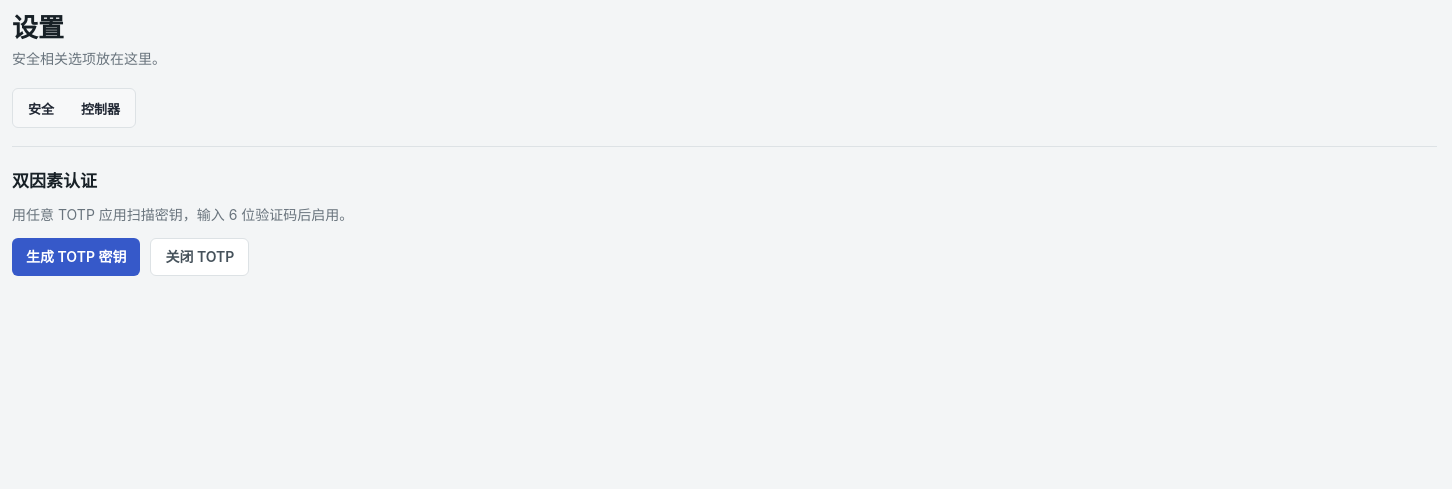
Scenario: auth and security flows › generates and enables TOTP from settings
Click the button "生成 TOTP 密钥".
click(76, 257)  # box [12,238,140,276]
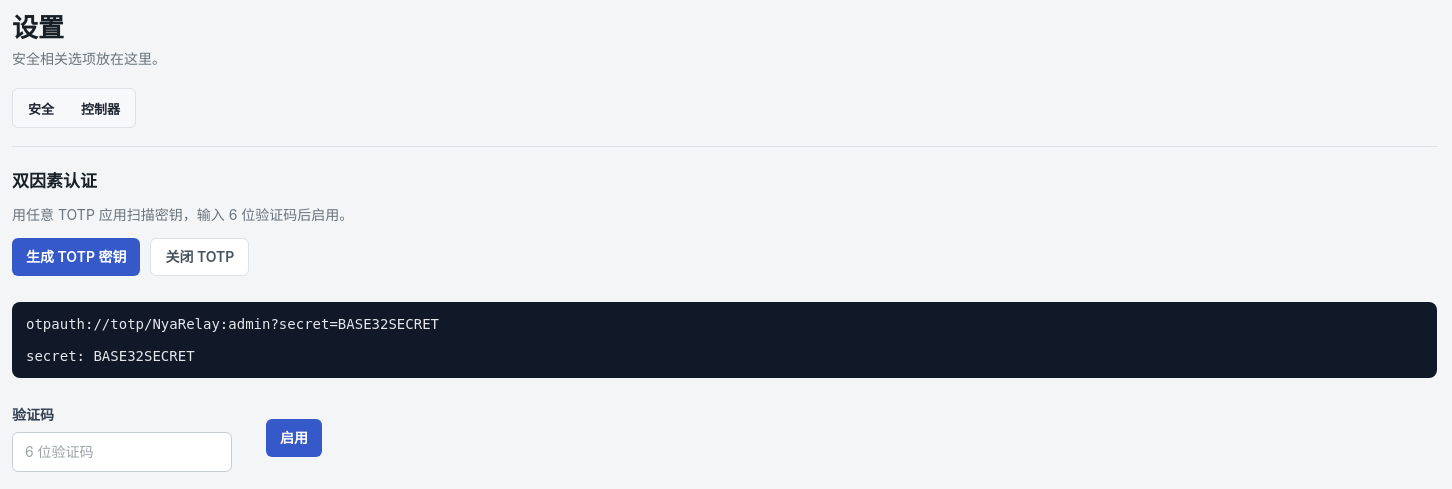
expect the text "secret: BASE32SECRET" is shown: met, box [26,316,439,364]
Type "654321" into the field labelled "验证码".
click(122, 452); type("654321")  # box [12,432,232,472]
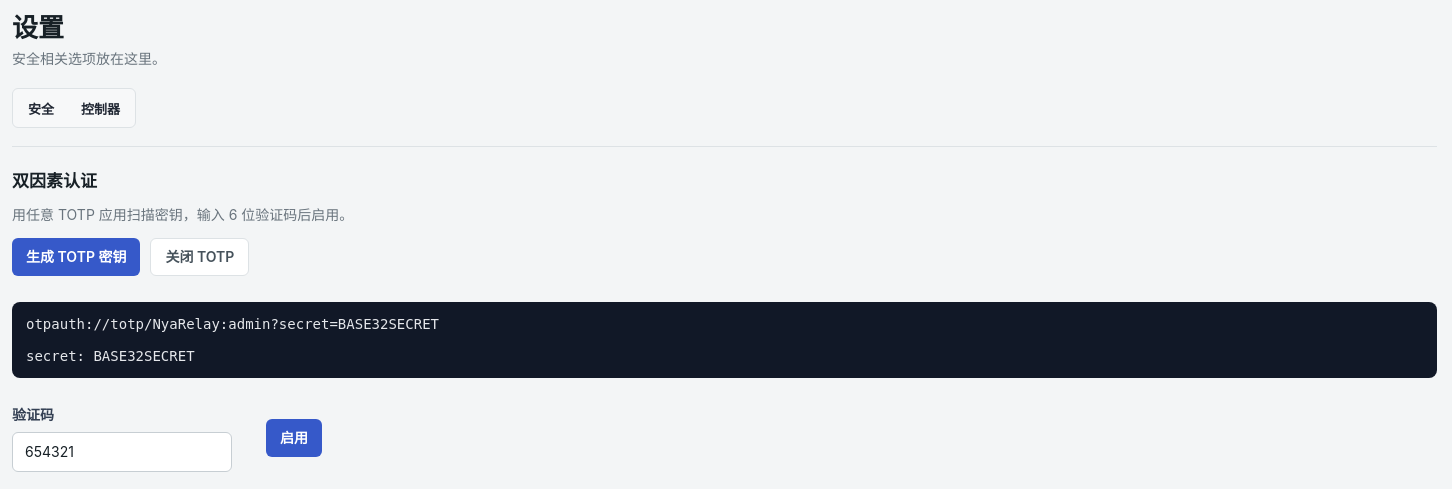
Click the button "启用".
click(294, 438)  # box [266,419,322,457]
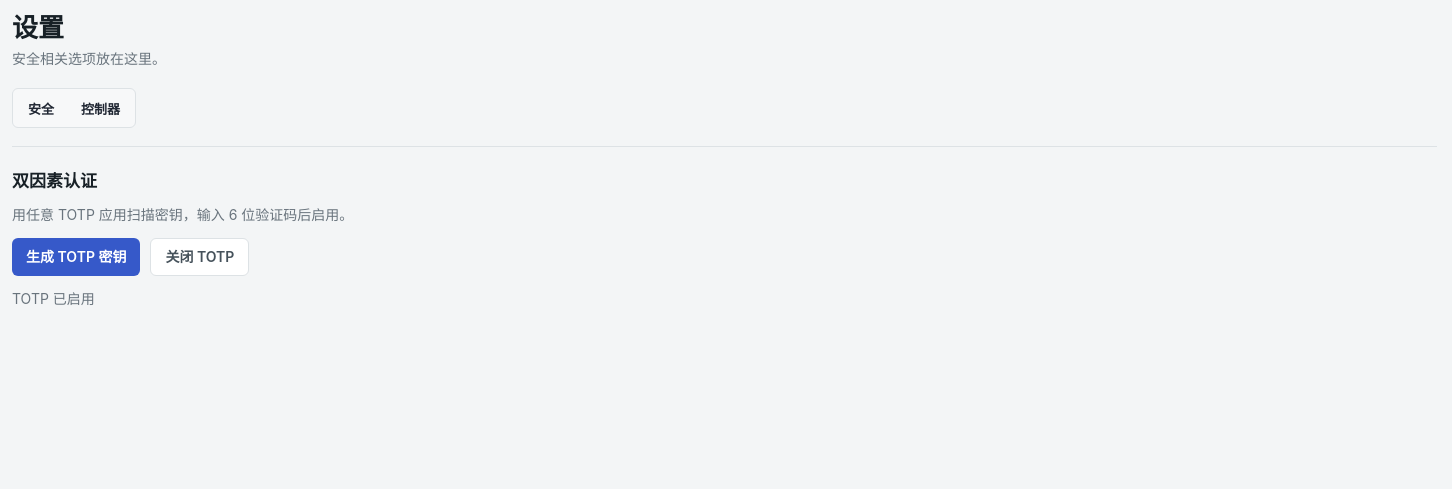
expect the text "TOTP 已启用" is shown: met, box [12,290,95,307]
